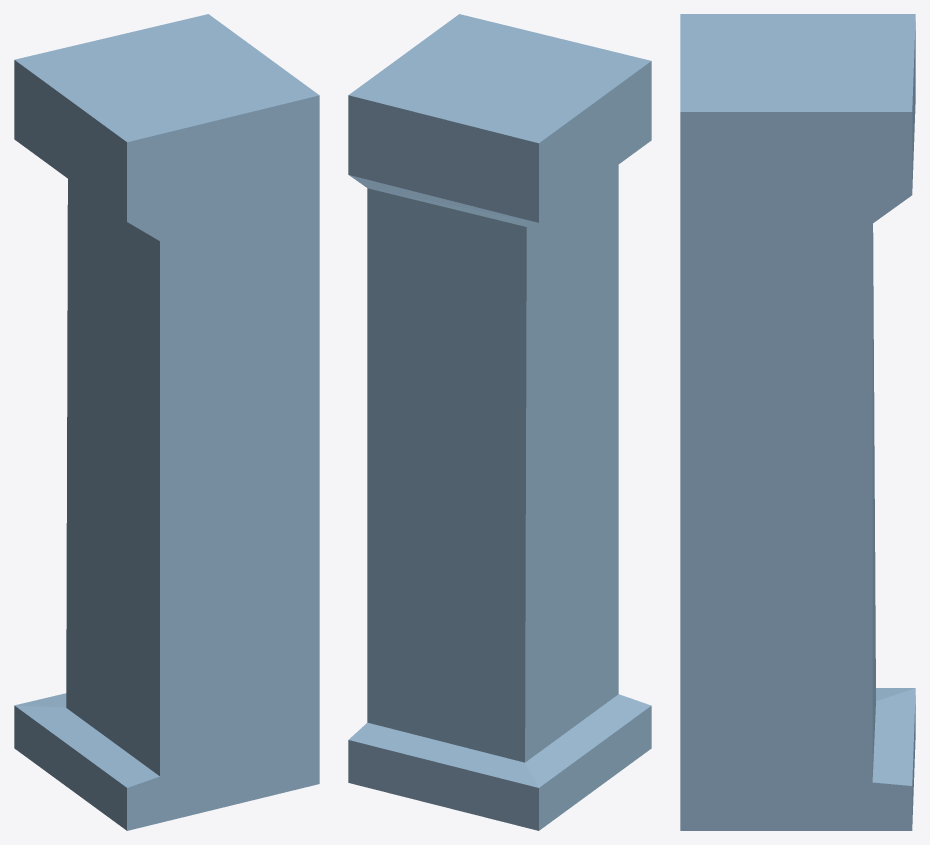
File: EspacioRedSocialEsquinaAperturaExteriorG.gltf
3 renders of one model, left to right at view 1: azimuth 30°, elevation 25°; view 2: azimuth 150°, elevation 25°; view 3: azimuth 270°, elevation 25°, orthographic. The views are drawn at different scales.
Parts seen in each view (by area): view 1: Objeto Poligonal.5; view 2: Objeto Poligonal.5; view 3: Objeto Poligonal.5.
Part boxes in pixels (x1,y1,x2,y2): Objeto Poligonal.5: [14, 14, 319, 830]; Objeto Poligonal.5: [348, 14, 651, 830]; Objeto Poligonal.5: [680, 14, 915, 830].
Bounding box in the file's own units: 0.585 × 2 × 0.5938.
Materials: 1 (1 with a texture image).
